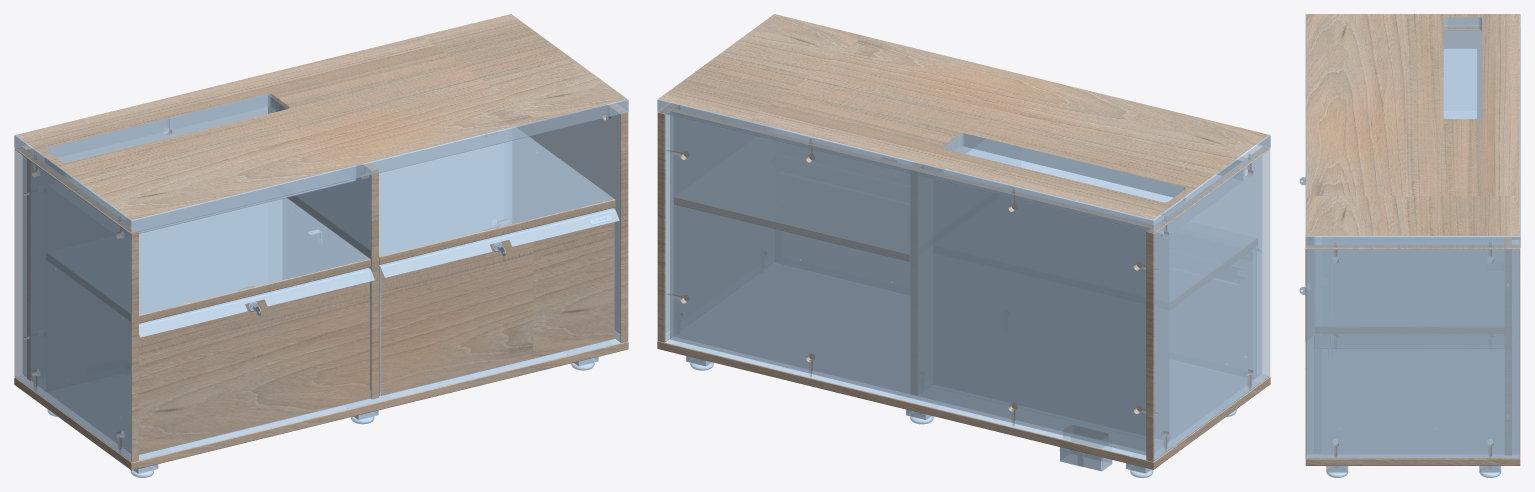
The model's file is LKAL160000_DER_120.glb.
The picture shows the model from 3 angles, left to right: view 1: azimuth 30°, elevation 25°; view 2: azimuth 150°, elevation 25°; view 3: azimuth 270°, elevation 25°; orthographic projection. The views are drawn at different scales.
Parts seen in each view (by area): view 1: 4 (×4), 80, 68, 77; view 2: 4 (×4), 80, 67; view 3: 4 (×4), 80.
Boxes of the visible parts, x1,y1,x2,y2 form: 4 (×4): (14,14,628,470); 80: (44,166,356,391); 68: (379,208,619,277); 77: (139,267,374,337); 4 (×4): (657,14,1270,469); 80: (940,139,1245,442); 67: (1059,436,1112,471); 4 (×4): (1305,14,1520,465); 80: (1443,48,1477,118).
Bounding box in the file's own units: 1.23 × 0.643 × 0.5142.
Materials: 2 (1 with a texture image).
